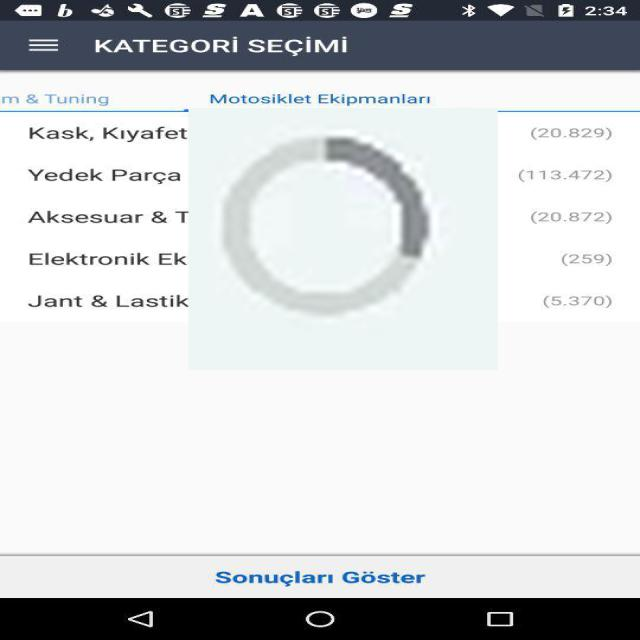misdirection: (188, 108, 498, 370)
